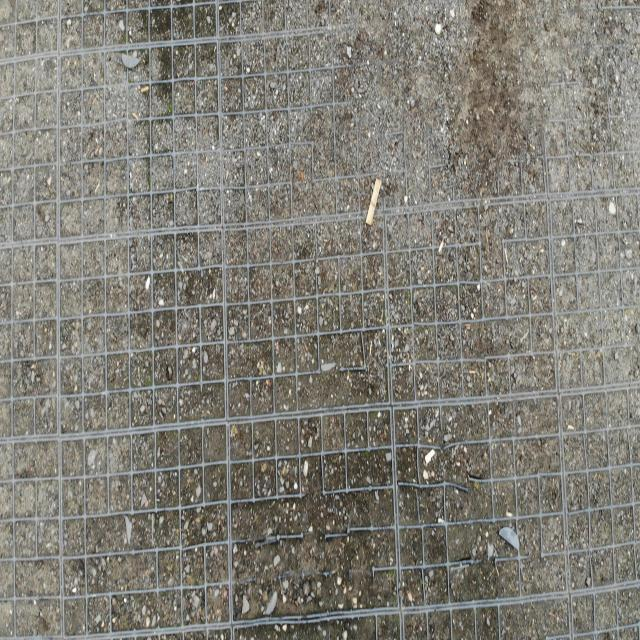rubbish: (365, 178, 382, 226), (499, 527, 519, 550), (140, 85, 150, 93)
